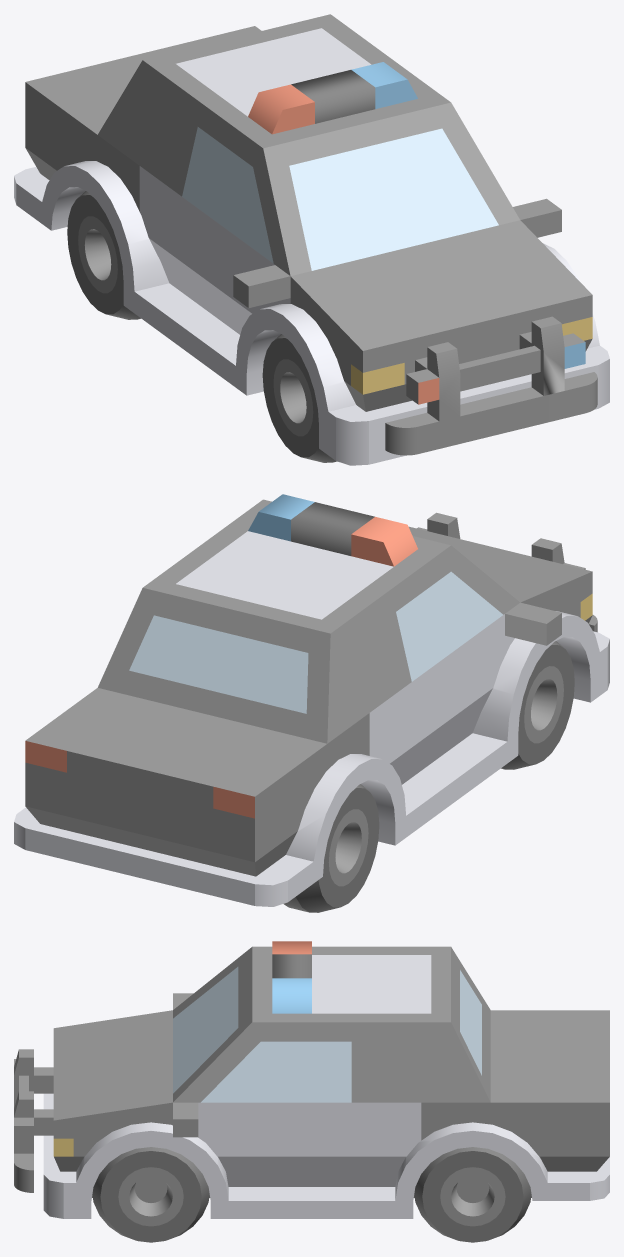
The model's file is car8.fbx.
The picture shows the model from 3 angles, top to bottom: view 1: azimuth 30°, elevation 25°; view 2: azimuth 150°, elevation 25°; view 3: azimuth 270°, elevation 25°; orthographic projection. The views are drawn at different scales.
Parts seen in each view (by area): view 1: car.007; view 2: car.007; view 3: car.007.
Part boxes in pixels (x1,y1,x2,y2): car.007: (14, 14, 609, 465); car.007: (14, 494, 609, 912); car.007: (14, 941, 609, 1242).
Bounding box in the file's own units: 240 × 208 × 480.
